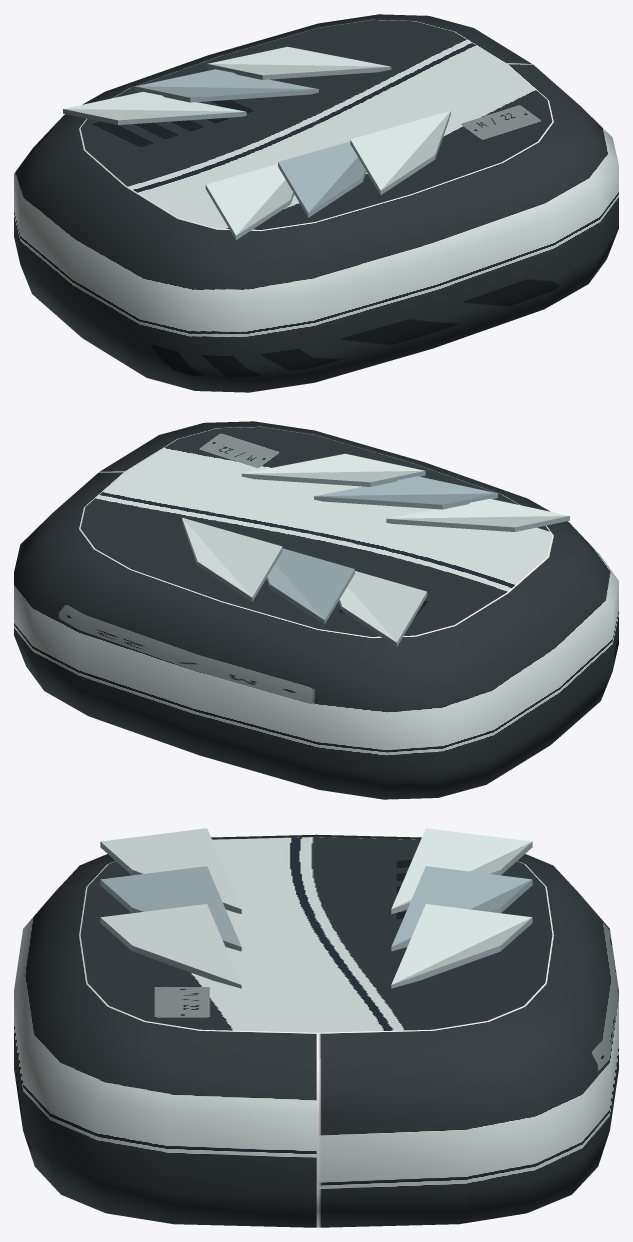
The model's file is MotorCowl_22_SR_外海・二重線.glb.
The picture shows the model from 3 angles, top to bottom: view 1: azimuth 30°, elevation 25°; view 2: azimuth 150°, elevation 25°; view 3: azimuth 270°, elevation 25°; orthographic projection. The views are drawn at different scales.
Parts seen in each view (by area): view 1: MotorCowl_22_SR; view 2: MotorCowl_22_SR; view 3: MotorCowl_22_SR.
Boxes of the visible parts, x1=… form: MotorCowl_22_SR: x1=14, y1=14, x2=618, y2=392; MotorCowl_22_SR: x1=14, y1=421, x2=618, y2=799; MotorCowl_22_SR: x1=14, y1=828, x2=618, y2=1227.
Size of the model in its own units: 0.332 by 0.1225 by 0.286.
Materials: 2 (2 with a texture image).
